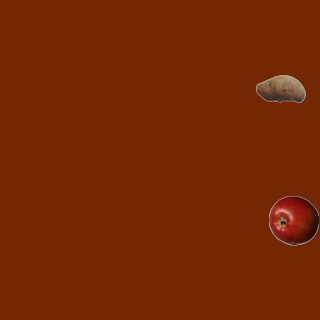Apple Braeburn: (268, 195, 318, 245)
Potato Sweet: (255, 63, 305, 113)
